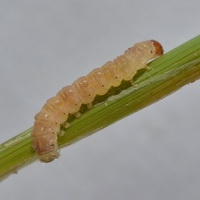insect: (31, 40, 162, 161)
